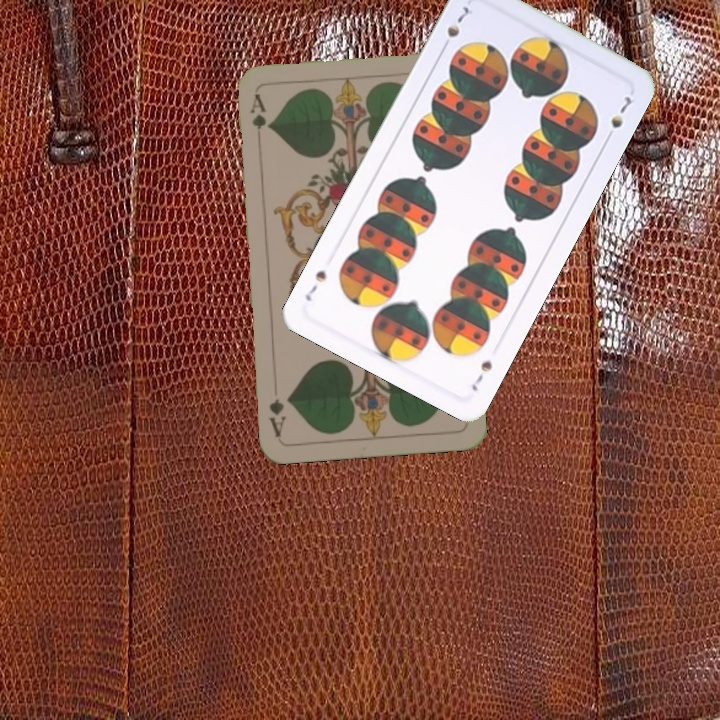GA: (246, 89, 269, 149)
S7: (437, 2, 472, 53), (467, 356, 495, 394)
